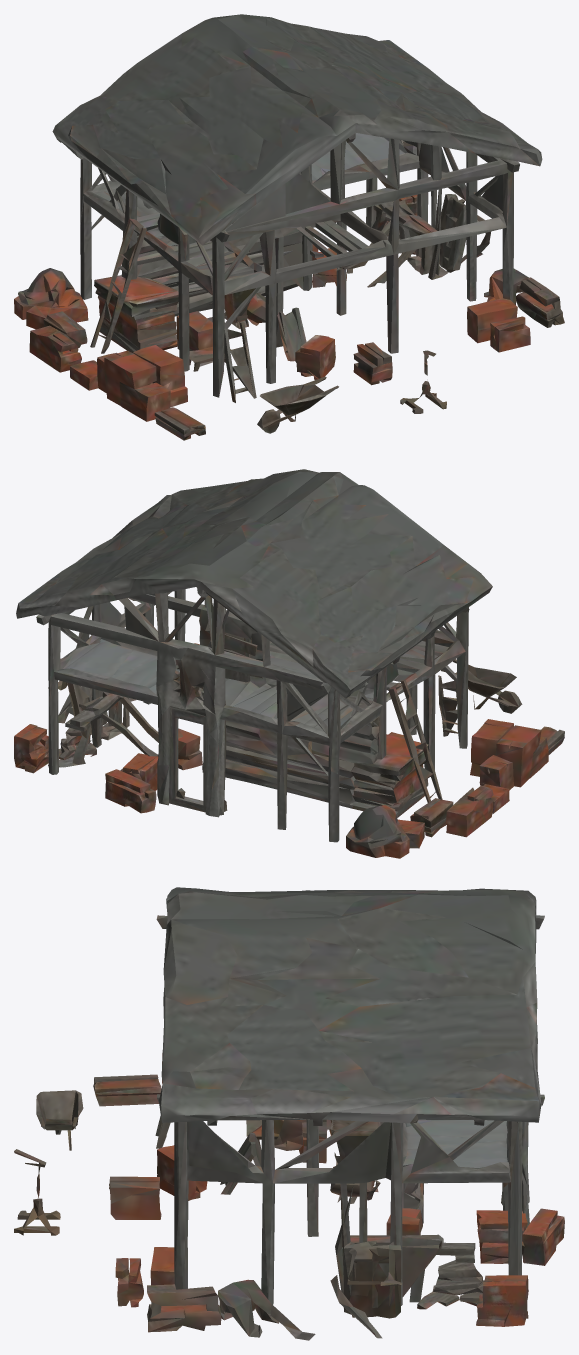
The model's file is site.glb.
3 views of the same model, one above another, from view 1: azimuth 30°, elevation 25°; view 2: azimuth 150°, elevation 25°; view 3: azimuth 270°, elevation 25° (orthographic). The views are drawn at different scales.
Size of the model in its own units: 1.9 by 1.05 by 1.63.
1 material, 1 textured.
